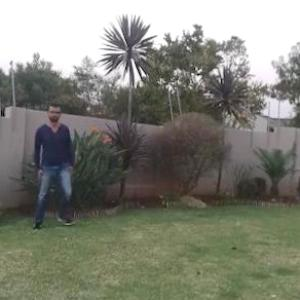follow: (34, 93, 74, 232)
